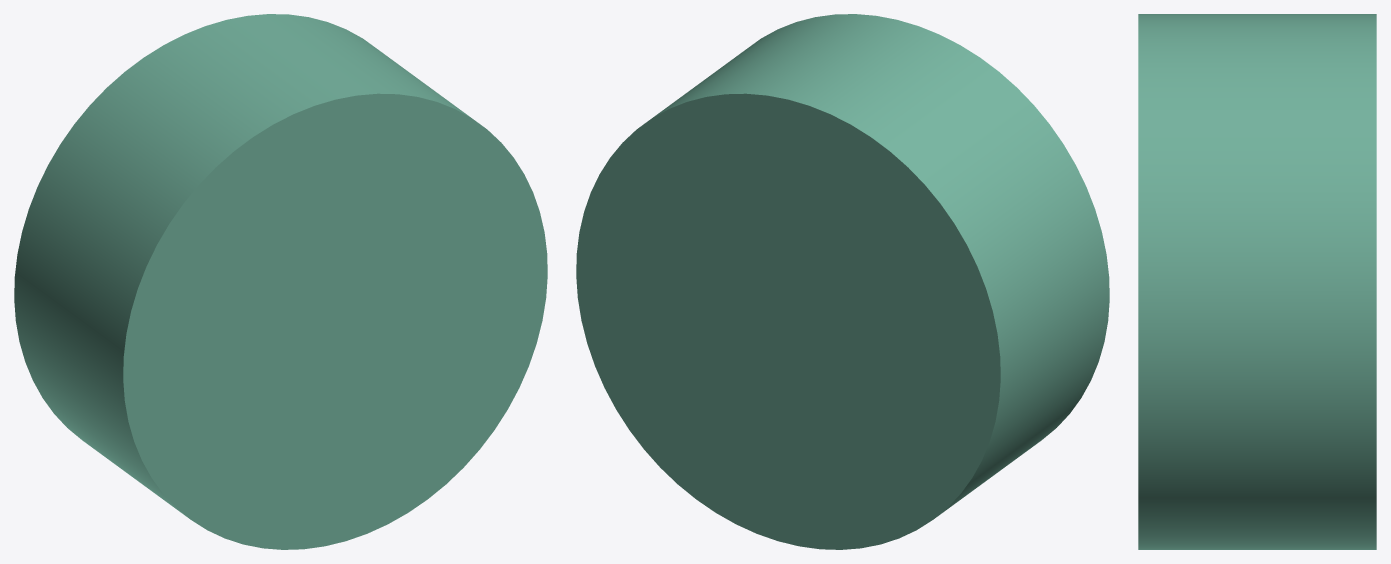
The model's file is step_10.glb.
3 renders of one model, left to right at view 1: azimuth 30°, elevation 25°; view 2: azimuth 150°, elevation 25°; view 3: azimuth 270°, elevation 25°, orthographic. The views are drawn at different scales.
Parts seen in each view (by area): view 1: part__wheel centre; view 2: part__wheel centre; view 3: part__wheel centre.
Boxes of the visible parts, x1,y1,x2,y2 form: part__wheel centre: [14, 14, 547, 549]; part__wheel centre: [576, 14, 1109, 549]; part__wheel centre: [1138, 14, 1376, 549].
Size of the model in its own units: 71.98 by 71.96 by 32.
